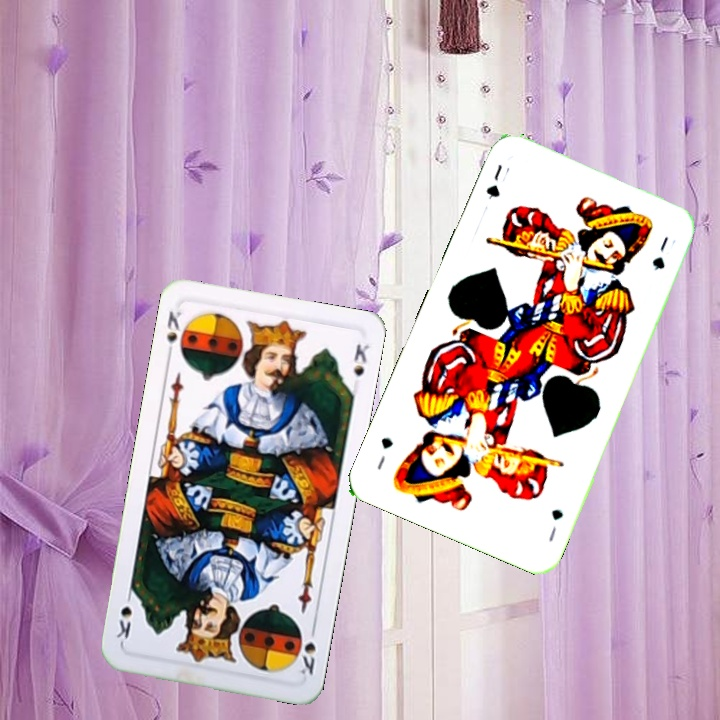GU: (481, 160, 513, 201), (544, 505, 566, 544)
SK: (162, 306, 191, 361), (292, 621, 319, 678)
